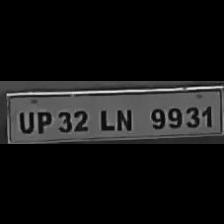1: (199, 101, 215, 127)
2: (70, 106, 90, 132)
3: (54, 106, 72, 132), (182, 102, 198, 127)
9: (146, 103, 166, 129), (164, 103, 184, 127)
L: (94, 104, 116, 130)
N: (112, 104, 134, 130)
P: (32, 107, 52, 133)
U: (14, 106, 34, 132)
